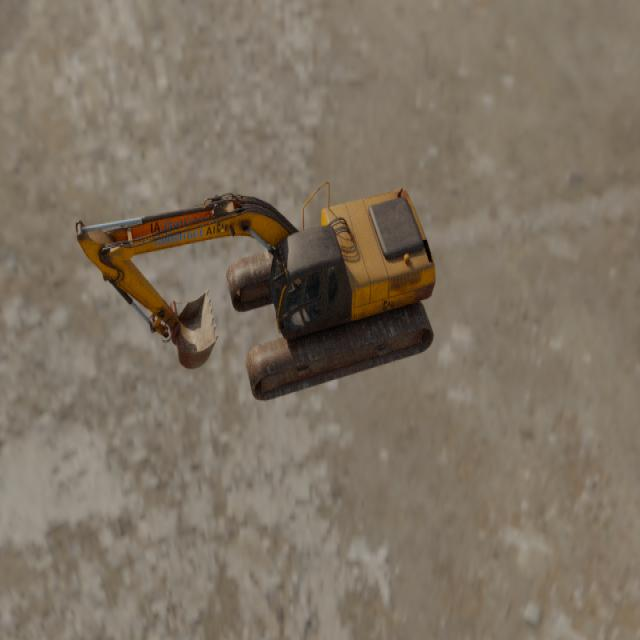excavator: (74, 186, 436, 402)
